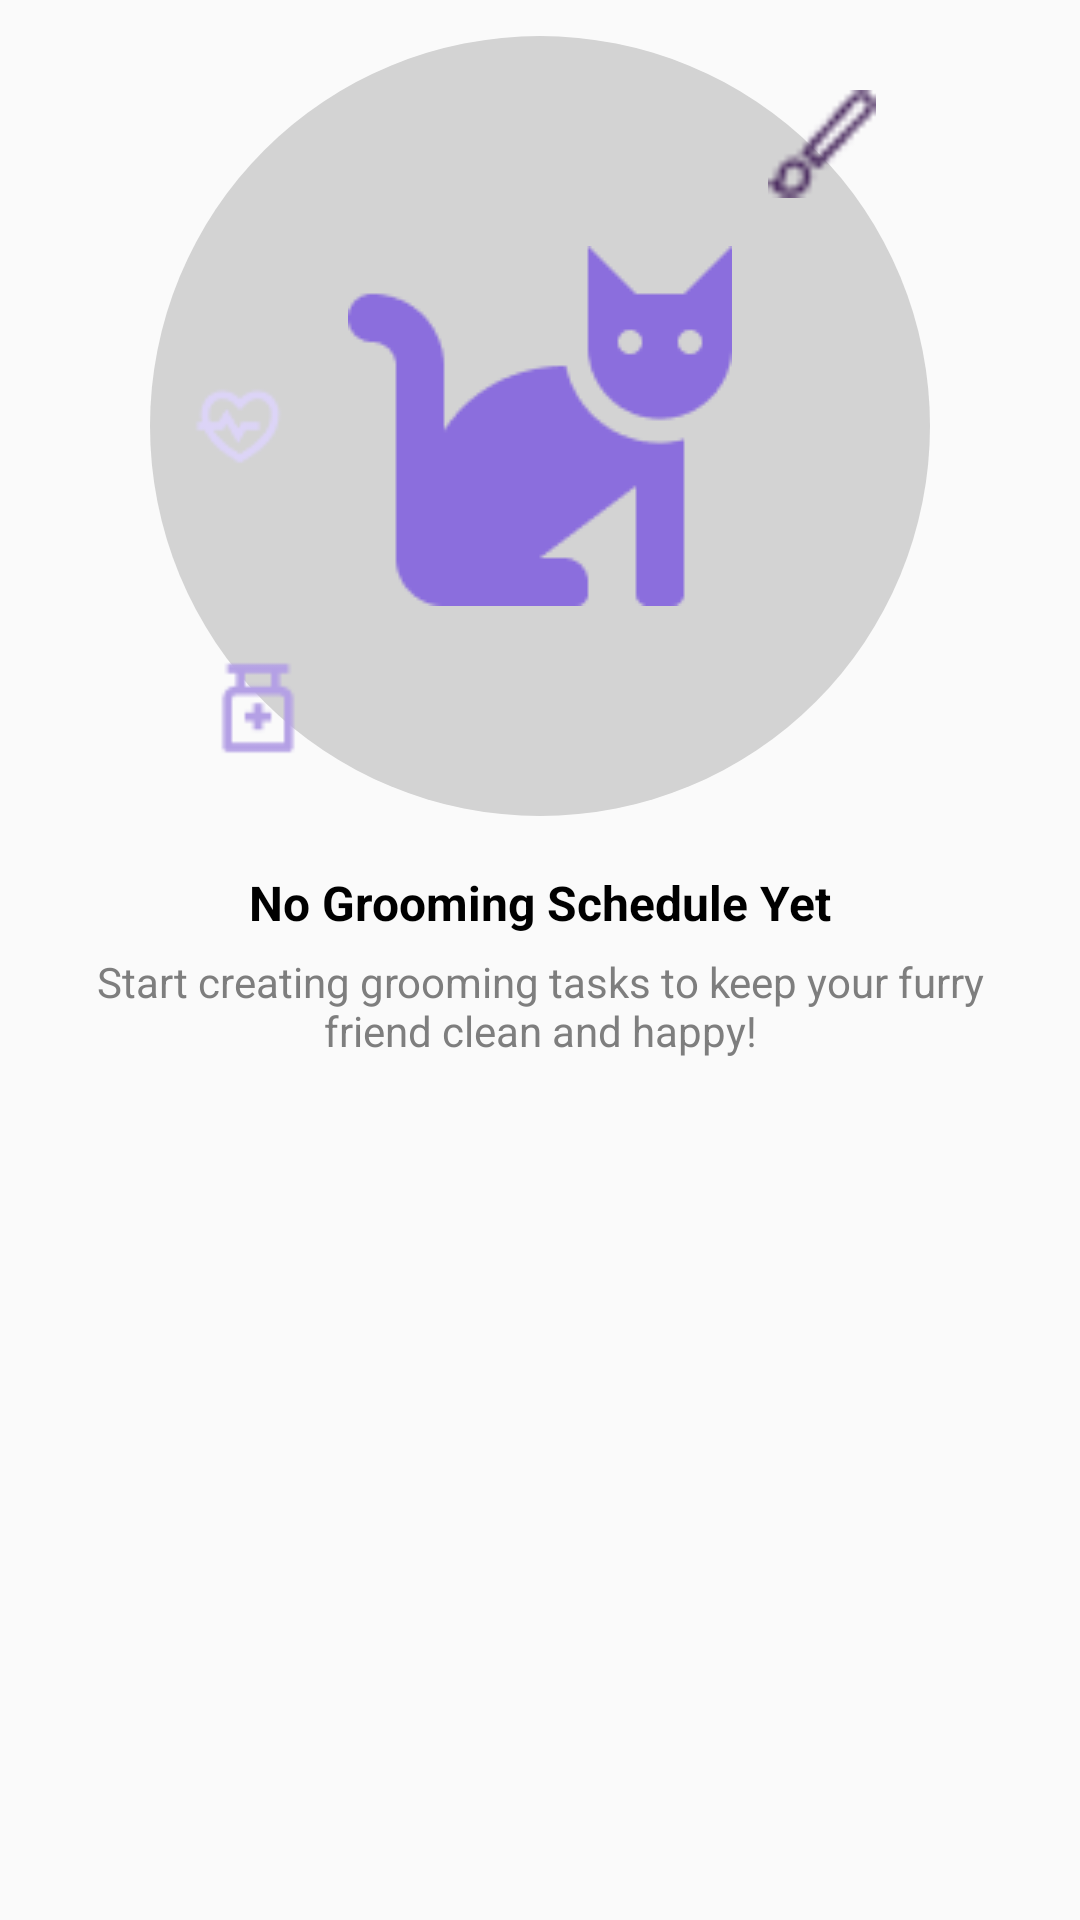

Named icons in this screenshot (1080w x 1920h) and their centers, (x,y):
Bottle: (258,708)
Brush: (822,144)
Heart: (238,427)
